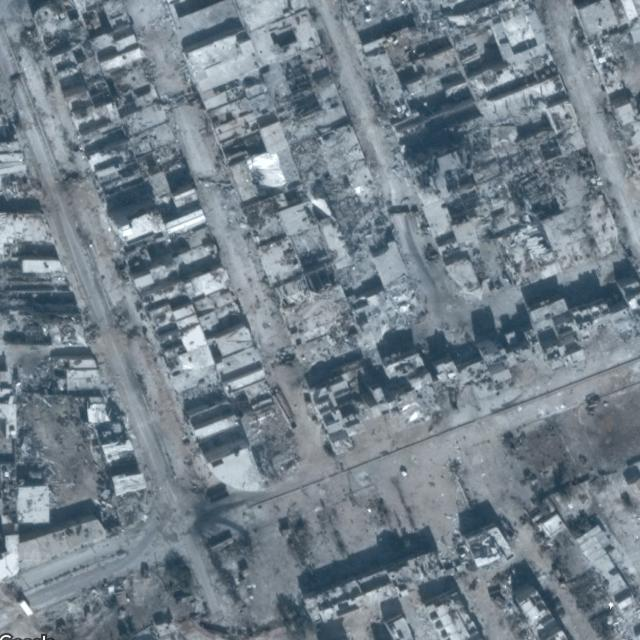damaged_building: (147, 1, 638, 456), (334, 0, 621, 292), (0, 61, 155, 582), (24, 0, 181, 195), (298, 520, 520, 625), (2, 548, 224, 636), (230, 378, 304, 488)
